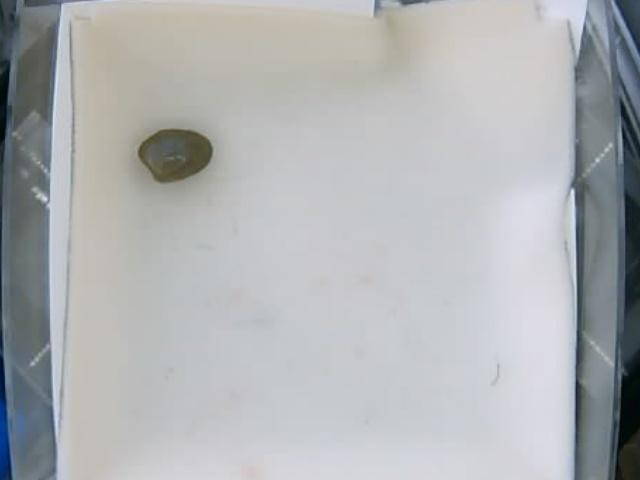Pebble: (136, 127, 212, 183)
